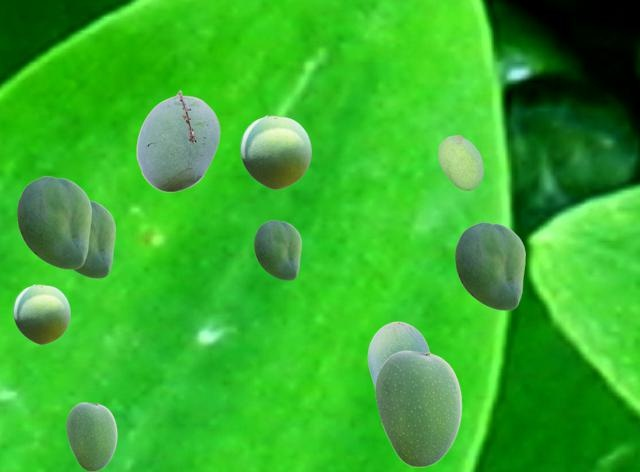green_mango: (375, 350, 461, 466), (136, 90, 219, 191), (17, 176, 90, 268), (455, 222, 524, 309), (240, 115, 310, 188), (367, 321, 430, 389), (66, 402, 116, 470), (13, 284, 69, 343), (72, 200, 114, 277), (254, 220, 300, 279), (438, 135, 482, 189)
